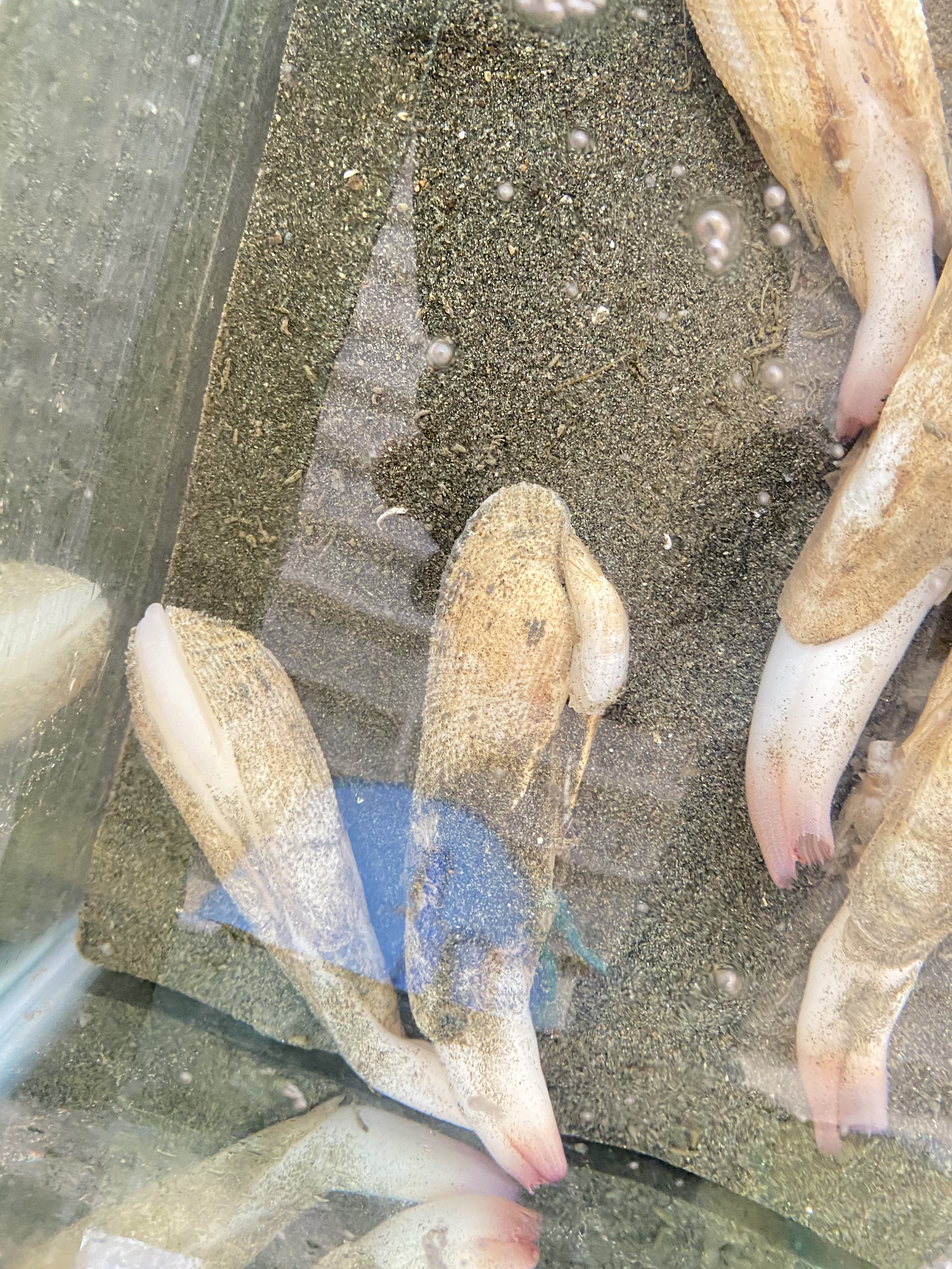Healthy: (127, 604, 469, 1127), (405, 482, 628, 1186), (746, 264, 952, 885), (688, 0, 952, 437), (275, 951, 468, 1126), (797, 894, 922, 1153), (318, 1193, 541, 1269)
